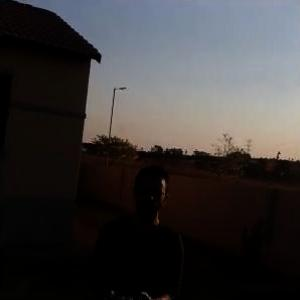follow: (82, 158, 188, 299)
